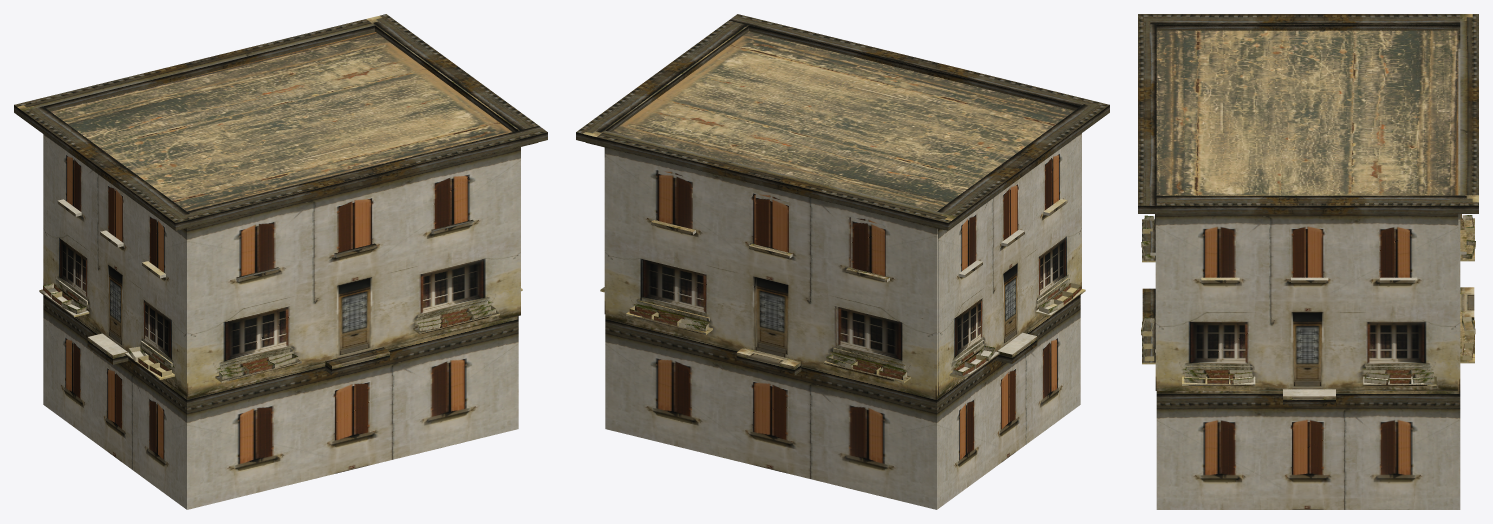
Rendered from BagBuilding19_70.fbx.
3 renders of one model, left to right at view 1: azimuth 30°, elevation 25°; view 2: azimuth 150°, elevation 25°; view 3: azimuth 270°, elevation 25°, orthographic. The views are drawn at different scales.
Parts seen in each view (by area): view 1: main70, Box70, roof70; view 2: main70, roof70, Box70; view 3: main70, Box70, roof70.
Boxes of the visible parts, x1,y1,x2,y2 form: main70: (14, 14, 547, 509); Box70: (43, 134, 520, 396); roof70: (50, 32, 512, 211); main70: (576, 14, 1109, 509); roof70: (611, 31, 1074, 211); Box70: (604, 133, 1081, 395); main70: (1138, 14, 1478, 509); Box70: (1155, 214, 1458, 390); roof70: (1156, 30, 1458, 195).
Size of the model in its own units: 25.12 by 19.23 by 18.88.
